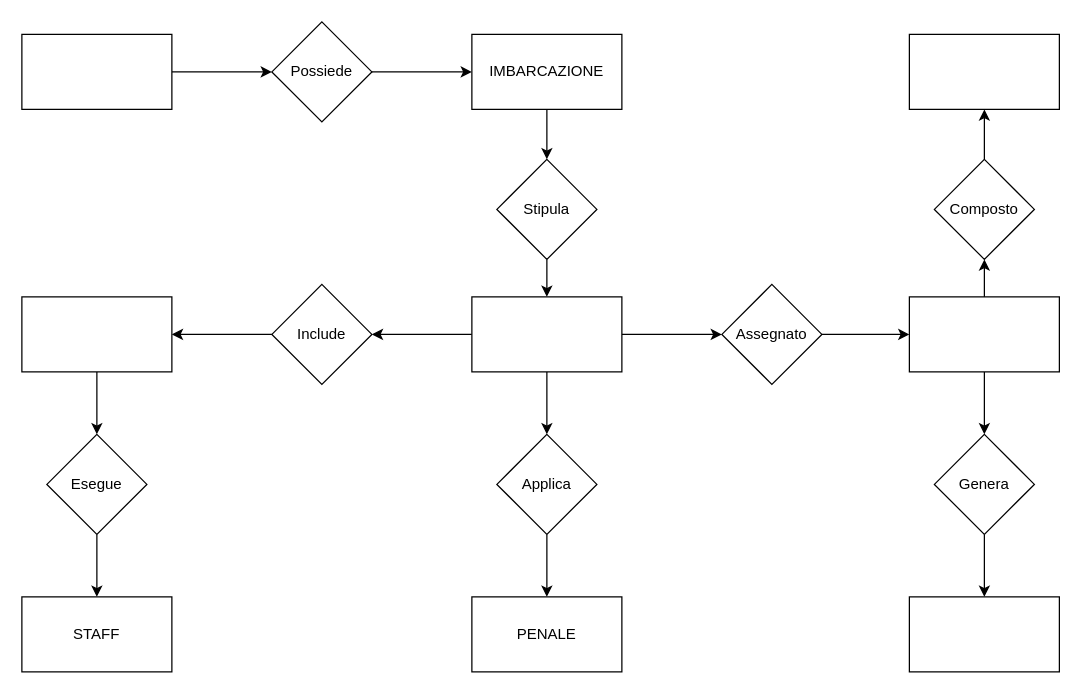
Image size: 1081x694. Some labels were removed from this diagram. Here are the shapes that lost their labels. From the top down, the centre of each, then its label:
(x=96, y=71): PROPRIETARIO
(x=983, y=71): MOLO
(x=96, y=334): SERVIZIO EXTRA
(x=546, y=334): CONTRATTO
(x=983, y=334): POSTO BARCA
(x=983, y=634): CONSUMO
